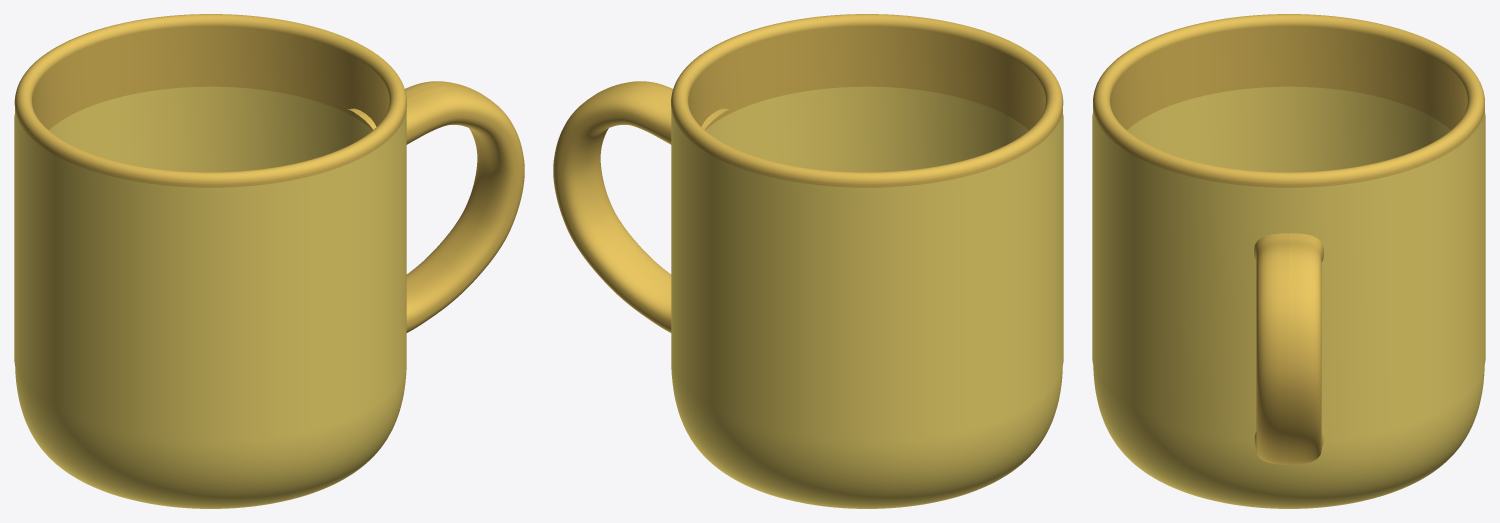
The model's file is caneca_imperial.glb.
The picture shows the model from 3 angles, left to right: view 1: azimuth 30°, elevation 25°; view 2: azimuth 150°, elevation 25°; view 3: azimuth 270°, elevation 25°; orthographic projection.
Visible parts, largest first — view 1: Area_Arte, Borda_Ouro, Corpo_Externo, Interior_Caneca, Alca_Imperial_Ouro; view 2: Area_Arte, Borda_Ouro, Corpo_Externo, Interior_Caneca, Alca_Imperial_Ouro; view 3: Corpo_Externo, Area_Arte, Borda_Ouro, Interior_Caneca, Alca_Imperial_Ouro.
Part boxes in pixels (box(x1,y1,x2,y2)): Area_Arte: box(14, 114, 404, 440); Borda_Ouro: box(14, 14, 406, 187); Corpo_Externo: box(15, 110, 406, 508); Interior_Caneca: box(49, 86, 372, 172); Alca_Imperial_Ouro: box(348, 81, 524, 332); Area_Arte: box(673, 114, 1063, 440); Borda_Ouro: box(671, 14, 1063, 187); Corpo_Externo: box(671, 110, 1062, 508); Interior_Caneca: box(705, 86, 1028, 172); Alca_Imperial_Ouro: box(553, 81, 729, 332); Corpo_Externo: box(1093, 109, 1484, 508); Area_Arte: box(1092, 113, 1485, 421); Borda_Ouro: box(1093, 14, 1484, 187); Interior_Caneca: box(1127, 86, 1450, 172); Alca_Imperial_Ouro: box(1254, 233, 1323, 464).
Size of the model in its own units: 0.1275 by 0.091 by 0.0914.
4 materials, 1 textured.
